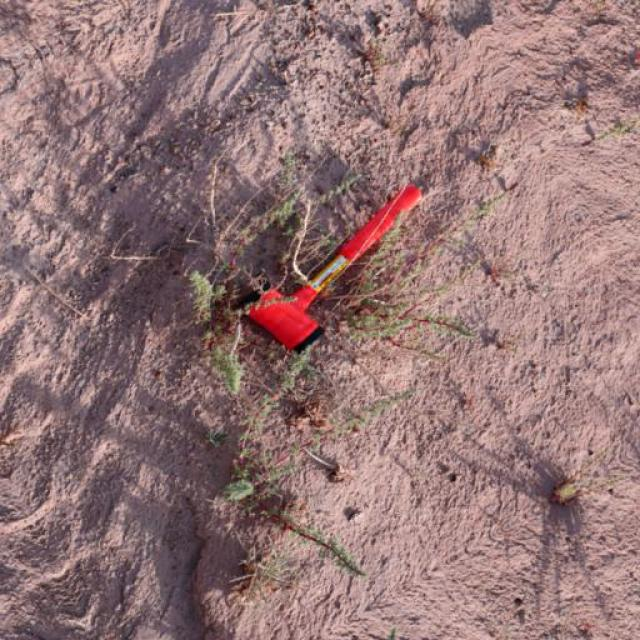mallet: (243, 181, 425, 355)
